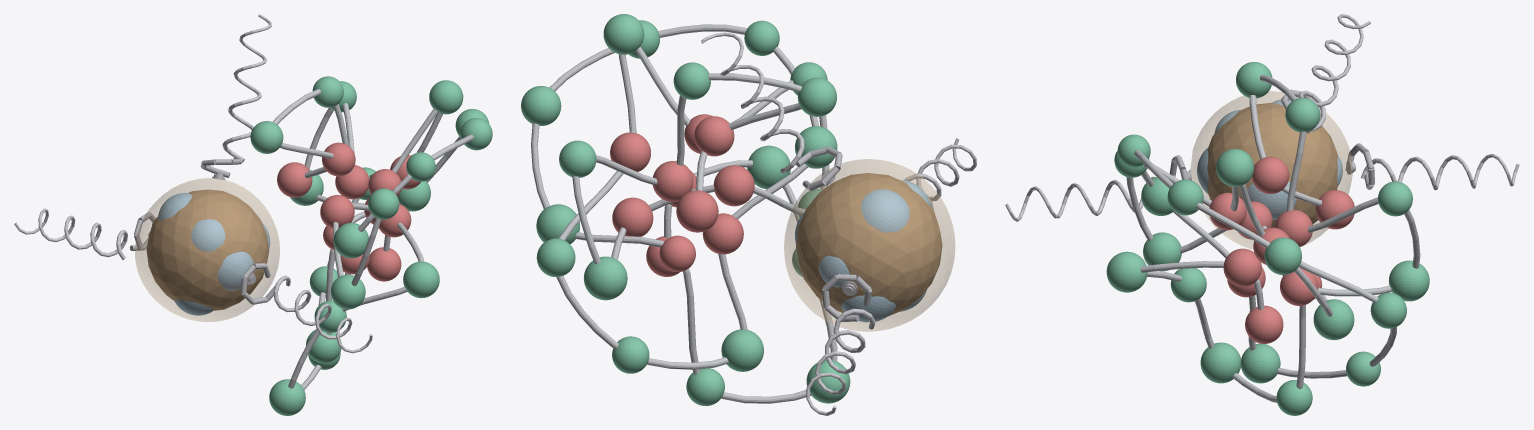
Rendered from docking_proteina_1_30aa_x_bacteria_ficticia_beta_5565125.glb.
3 views of the same model, side by side, from view 1: azimuth 30°, elevation 25°; view 2: azimuth 150°, elevation 25°; view 3: azimuth 270°, elevation 25° (orthographic). The views are drawn at different scales.
Visible parts, largest first — view 1: geometry_0, geometry_1, geometry_955, geometry_957, geometry_964, geometry_982, geometry_292, geometry_970, geometry_973, geometry_953, geometry_293, geometry_974 (+15 smaller); view 2: geometry_0, geometry_1, geometry_296, geometry_976, geometry_982, geometry_966, geometry_974, geometry_970, geometry_955, geometry_975, geometry_961, geometry_981 (+20 smaller); view 3: geometry_0, geometry_1, geometry_957, geometry_955, geometry_976, geometry_960, geometry_966, geometry_954, geometry_970, geometry_953, geometry_961, geometry_981 (+18 smaller).
Boxes of the visible parts, x1=… form: geometry_0: x1=135, y1=178, x2=279, y2=321; geometry_1: x1=146, y1=189, x2=269, y2=310; geometry_955: x1=403, y1=261, x2=439, y2=298; geometry_957: x1=269, y1=379, x2=305, y2=415; geometry_964: x1=333, y1=222, x2=368, y2=258; geometry_982: x1=277, y1=162, x2=312, y2=197; geometry_292: x1=217, y1=251, x2=254, y2=290; geometry_970: x1=429, y1=80, x2=463, y2=114; geometry_973: x1=330, y1=274, x2=365, y2=309; geometry_953: x1=367, y1=247, x2=401, y2=281; geometry_293: x1=191, y1=219, x2=225, y2=251; geometry_974: x1=320, y1=195, x2=354, y2=228; geometry_0: x1=784, y1=159, x2=954, y2=331; geometry_1: x1=796, y1=173, x2=942, y2=316; geometry_296: x1=861, y1=189, x2=909, y2=232; geometry_976: x1=583, y1=256, x2=627, y2=300; geometry_982: x1=676, y1=190, x2=718, y2=232; geometry_966: x1=721, y1=329, x2=763, y2=371; geometry_974: x1=713, y1=165, x2=754, y2=206; geometry_970: x1=603, y1=14, x2=644, y2=54; geometry_955: x1=747, y1=145, x2=790, y2=189; geometry_975: x1=612, y1=197, x2=653, y2=236; geometry_961: x1=521, y1=86, x2=561, y2=125; geometry_981: x1=694, y1=116, x2=734, y2=156; geometry_0: x1=1190, y1=91, x2=1352, y2=249; geometry_1: x1=1207, y1=102, x2=1337, y2=227; geometry_957: x1=1200, y1=342, x2=1240, y2=383; geometry_955: x1=1106, y1=251, x2=1147, y2=292; geometry_976: x1=1389, y1=260, x2=1429, y2=301; geometry_960: x1=1313, y1=299, x2=1354, y2=340; geometry_966: x1=1240, y1=343, x2=1280, y2=383; geometry_954: x1=1223, y1=248, x2=1261, y2=286; geometry_970: x1=1216, y1=149, x2=1254, y2=186; geometry_953: x1=1245, y1=305, x2=1283, y2=343; geometry_961: x1=1264, y1=237, x2=1301, y2=274; geometry_981: x1=1252, y1=156, x2=1289, y2=194.
Size of the model in its own units: 15.37 by 13.67 by 16.72.
